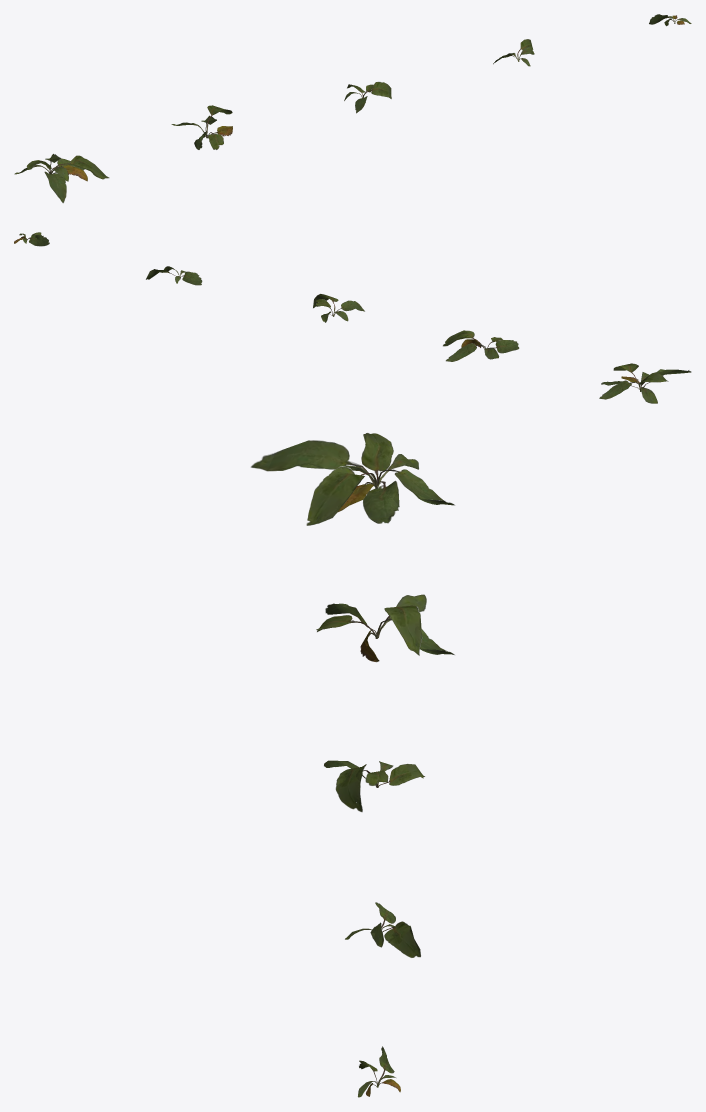
File: far.glb
The picture shows the model from 3 angles, top to bottom: view 1: azimuth 30°, elevation 25°; view 2: azimuth 150°, elevation 25°; view 3: azimuth 270°, elevation 25°; orthographic projection. The views are drawn at different scales.
Parts seen in each view (by area): view 1: weed_plant_02_a_LOD0, weed_plant_02_c_LOD0; view 2: weed_plant_02_a_LOD0, weed_plant_02_c_LOD0; view 3: weed_plant_02_a_LOD0, weed_plant_02_c_LOD0.
Boxes of the visible parts, <box> form: weed_plant_02_a_LOD0: <box>14,14,691,202</box>; weed_plant_02_c_LOD0: <box>344,82,391,113</box>; weed_plant_02_a_LOD0: <box>14,232,691,403</box>; weed_plant_02_c_LOD0: <box>313,294,364,322</box>; weed_plant_02_a_LOD0: <box>251,433,454,1097</box>; weed_plant_02_c_LOD0: <box>324,760,424,811</box>.
Size of the model in its own units: 2.13 by 0.075 by 0.2908.
1 material, 1 textured.
